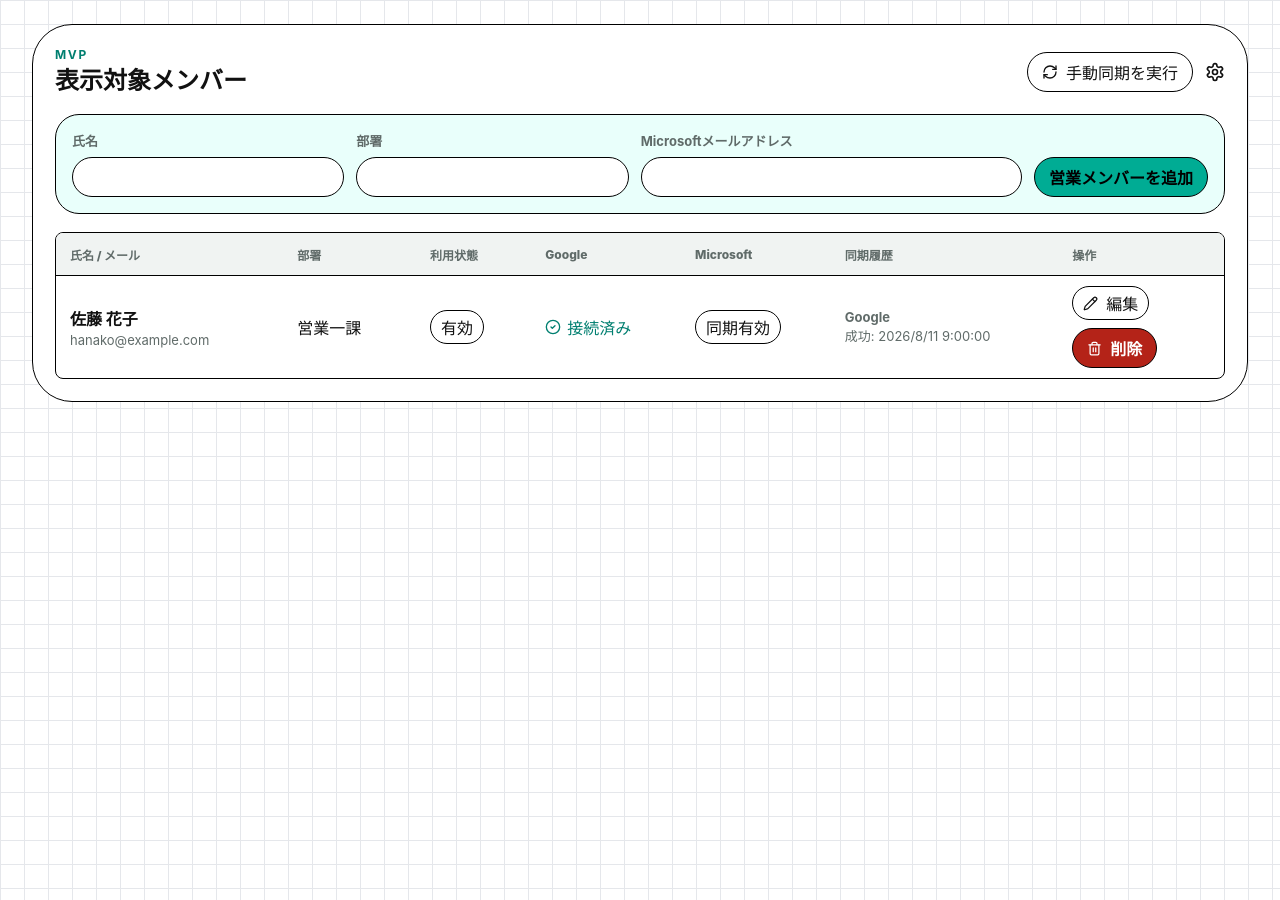
AdminMembers › 確認後にメンバーと表示中の同期状態を削除する
Expected: the text "佐藤 花子" is shown, [70,309,138,329]
Click the button with aria-label "佐藤 花子を削除": [1115, 348] box [1072,328,1157,368]
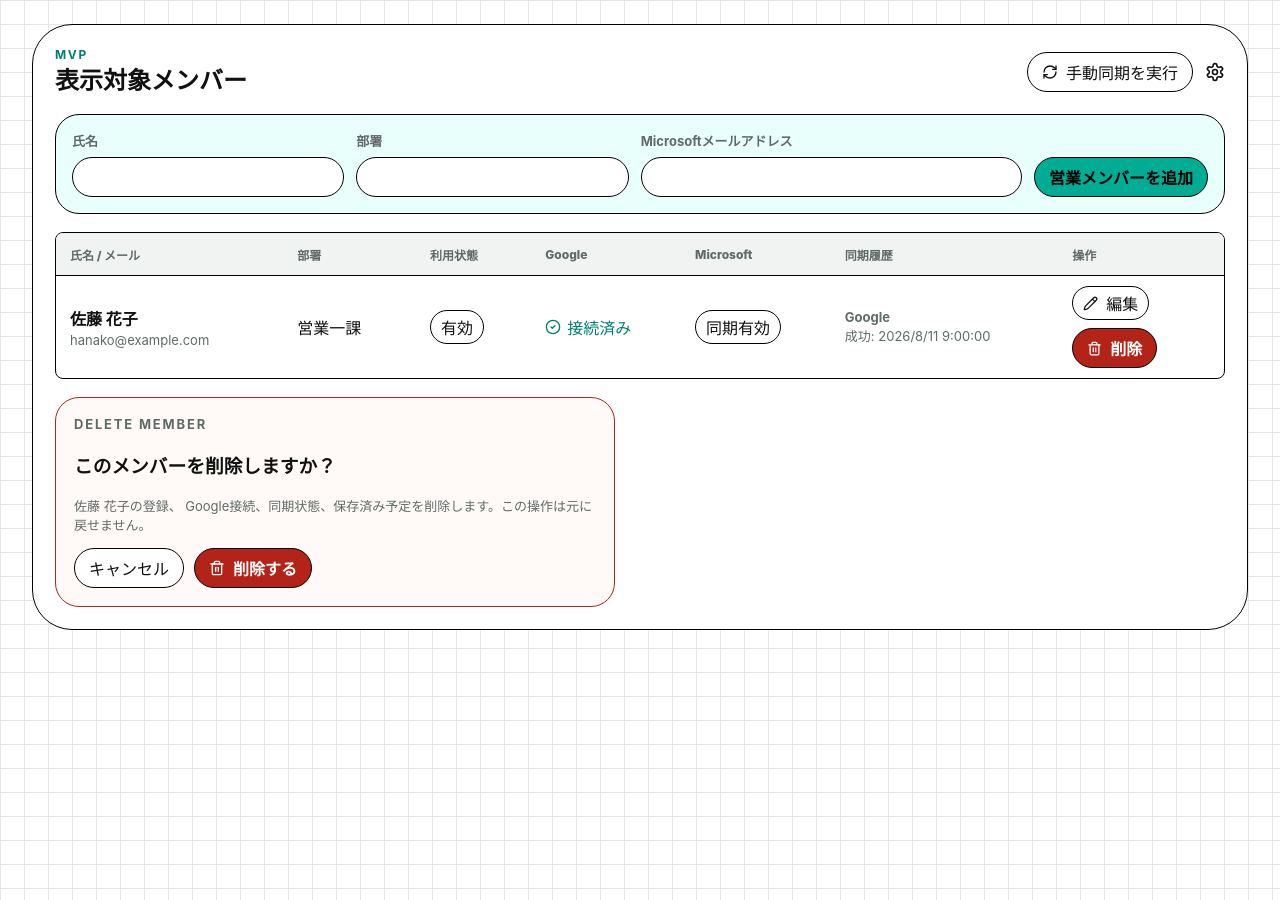
Now the dialog "このメンバーを削除しますか？" shows "Google接続、同期状態、保存済み予定を削除します", box [74,498,592,533]
Click the button "削除する": [253, 568] box [194,548,312,588]
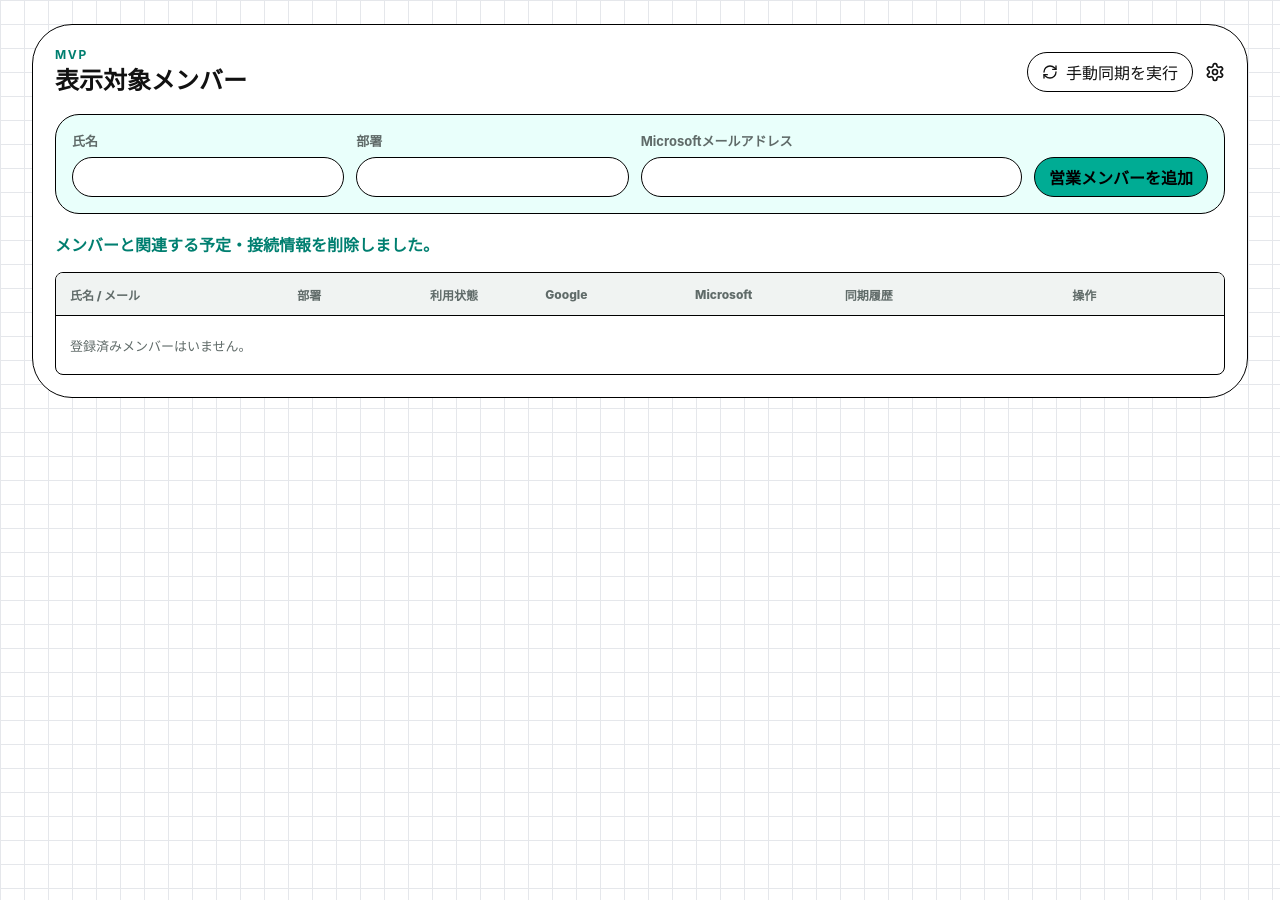
Now the text "メンバーと関連する予定・接続情報を削除しました。" is shown, box [55,235,439,255]
Now the text "登録済みメンバーはいません。" is shown, box [70,338,252,354]
Now the text "佐藤 花子" is gone
